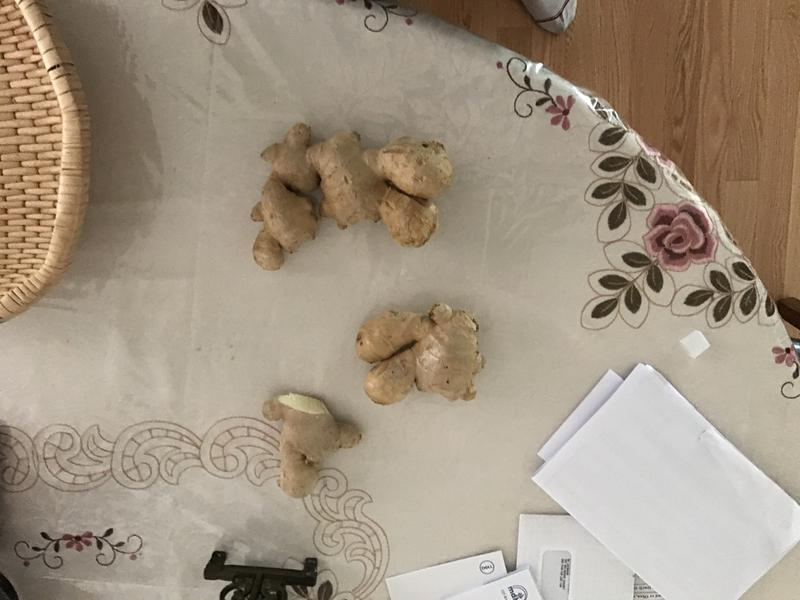ginger: (241, 108, 455, 285), (351, 299, 493, 419), (254, 386, 366, 499)
